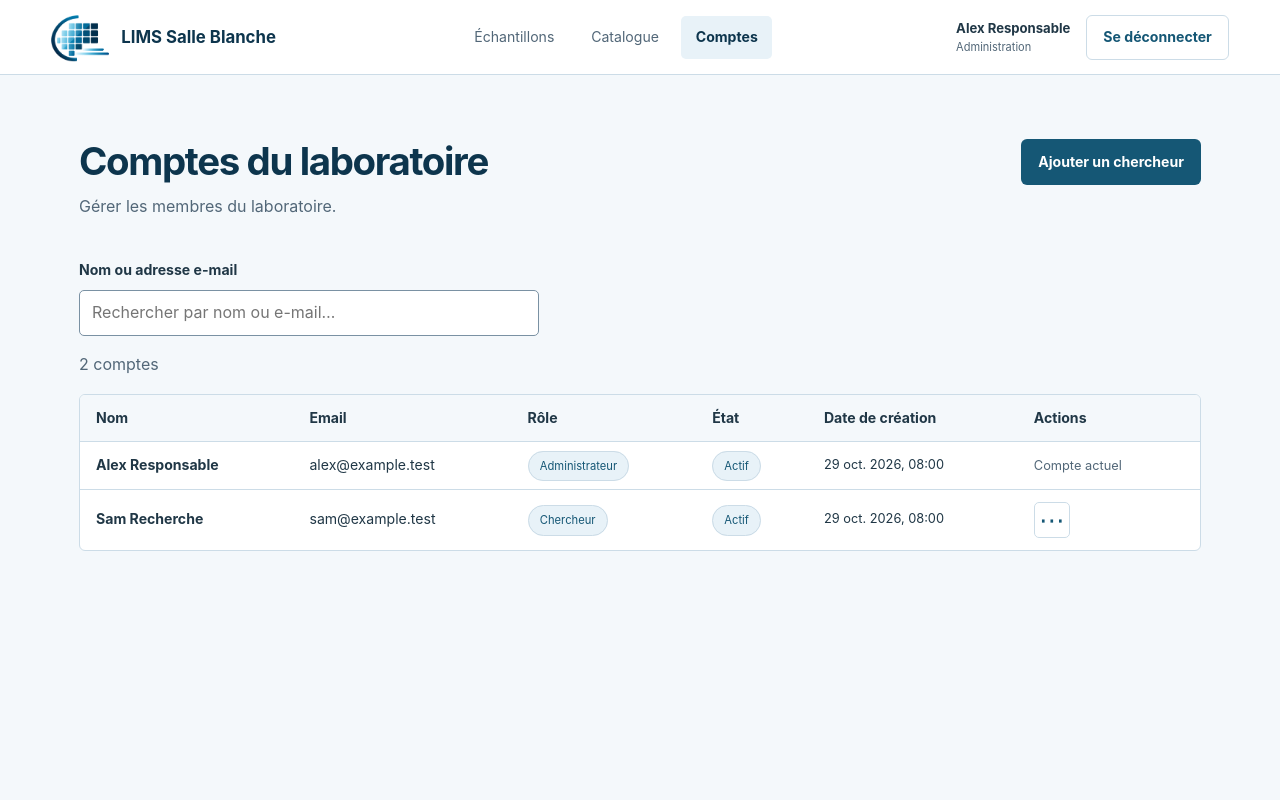
it: Administration des comptes › interdit l’auto-désactivation et confirme celle d’un autre compte, puis permet la réactivation
expect the text "Compte actuel" is shown: met, box [1034,458,1122,473]
Click the button "⋯" at (1052, 520), box [1034,502,1070,538]
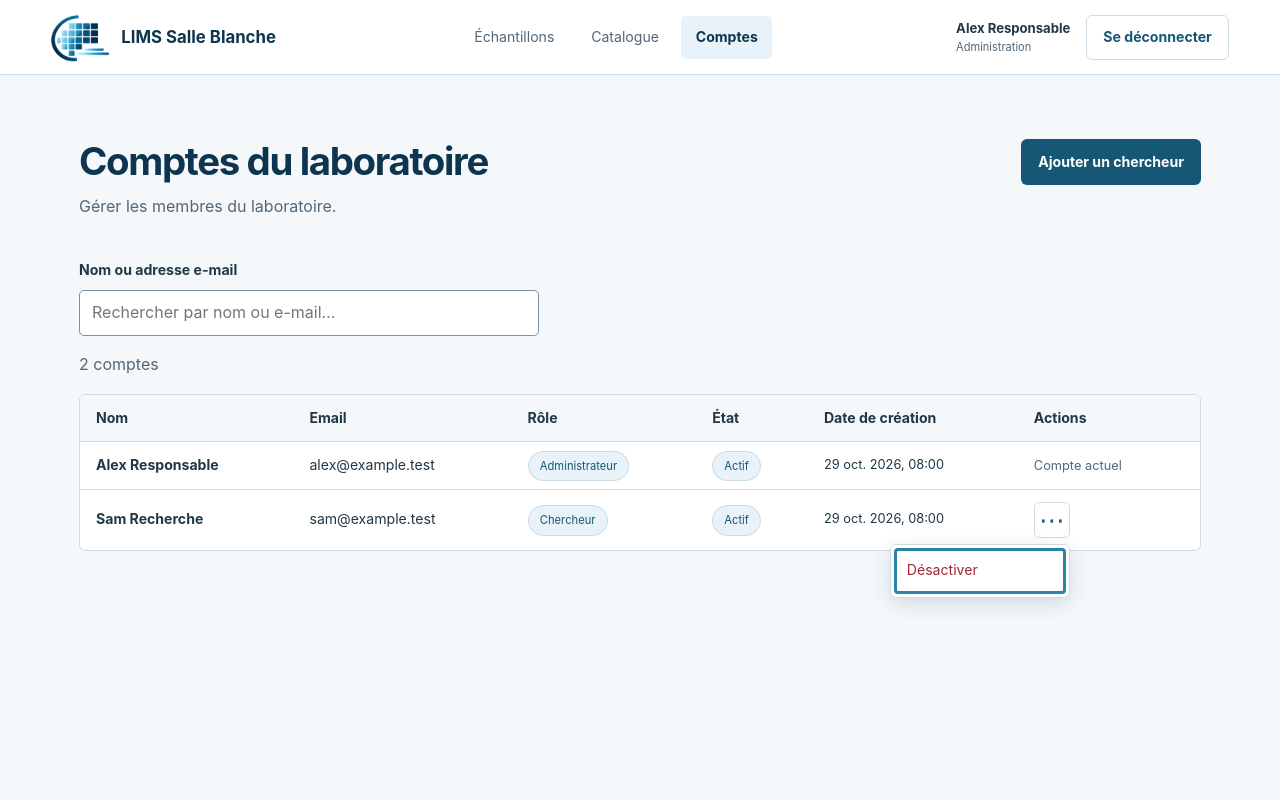
Click the menu item "Désactiver" at (980, 571), box [895,549,1065,593]
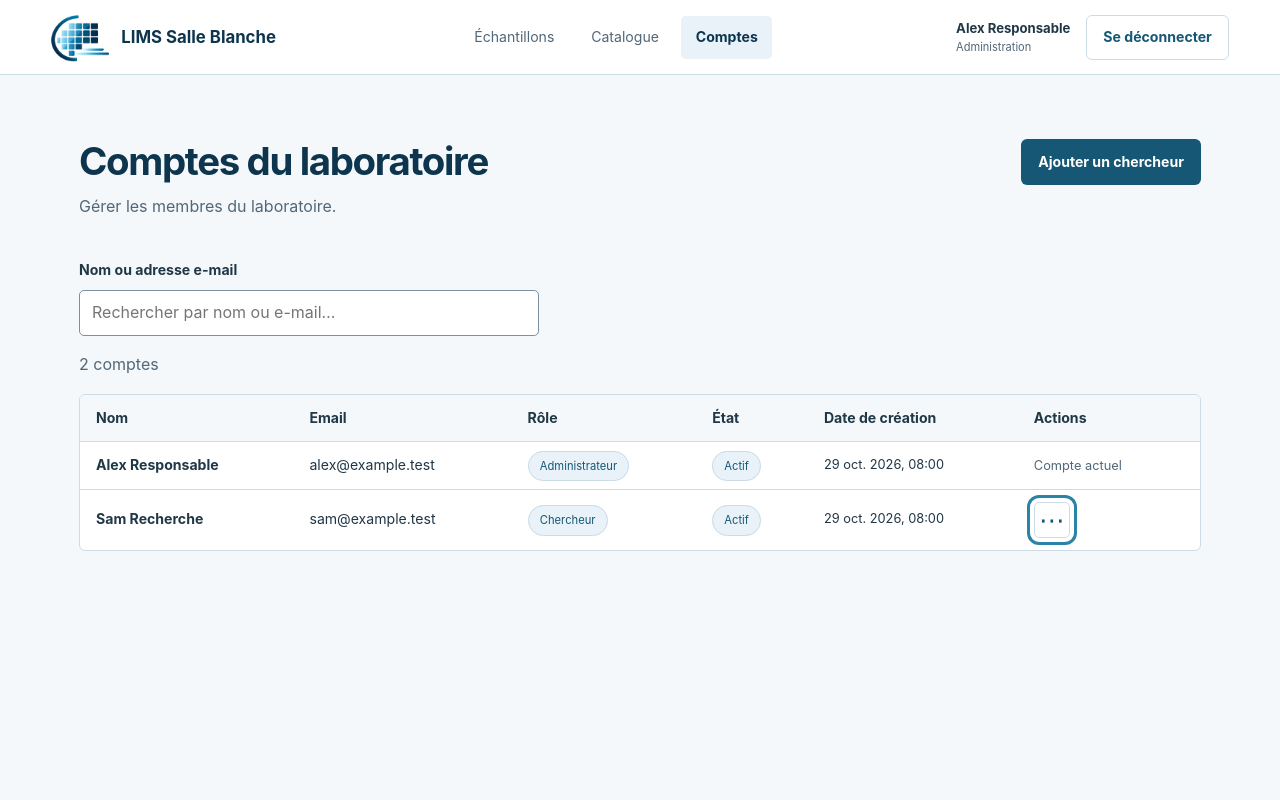
expect the menu is gone: met
Click the button "⋯" at (1052, 520), box [1034,502,1070,538]
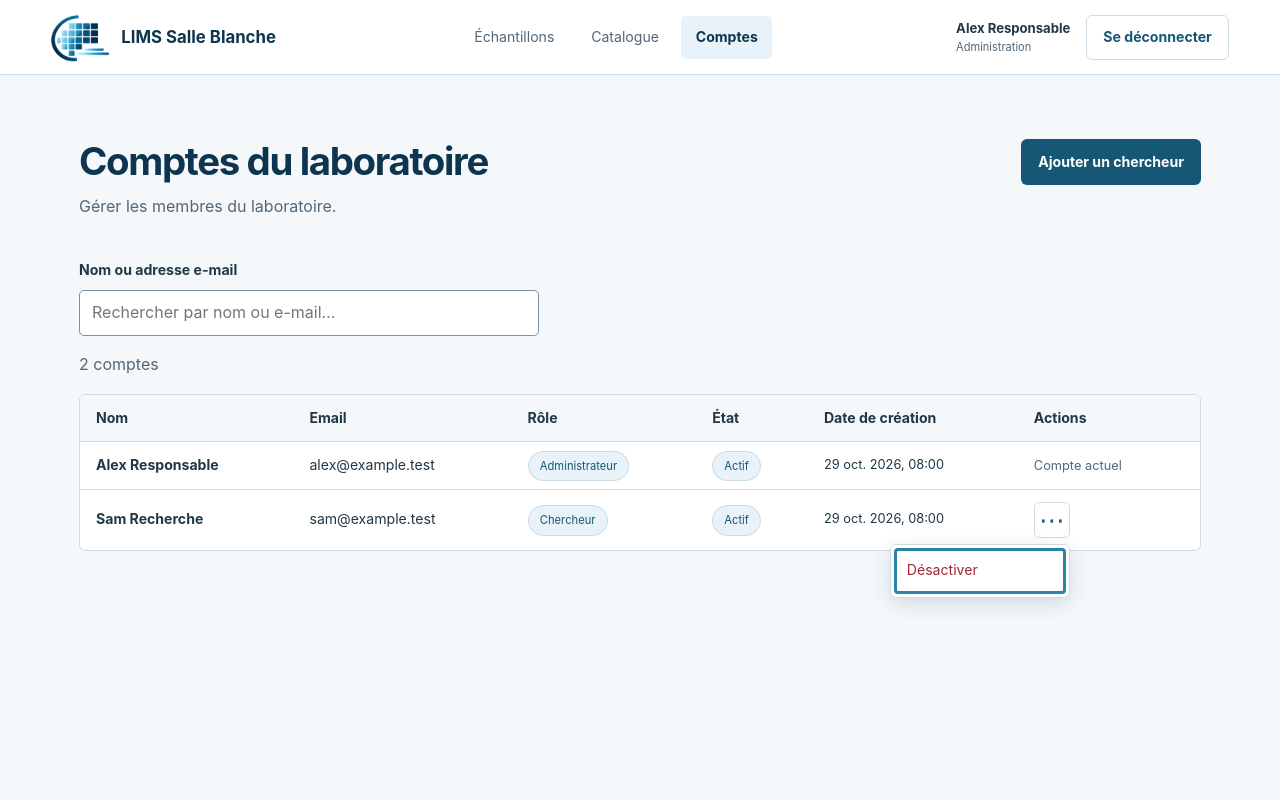
Click the menu item "Désactiver" at (980, 571), box [895,549,1065,593]
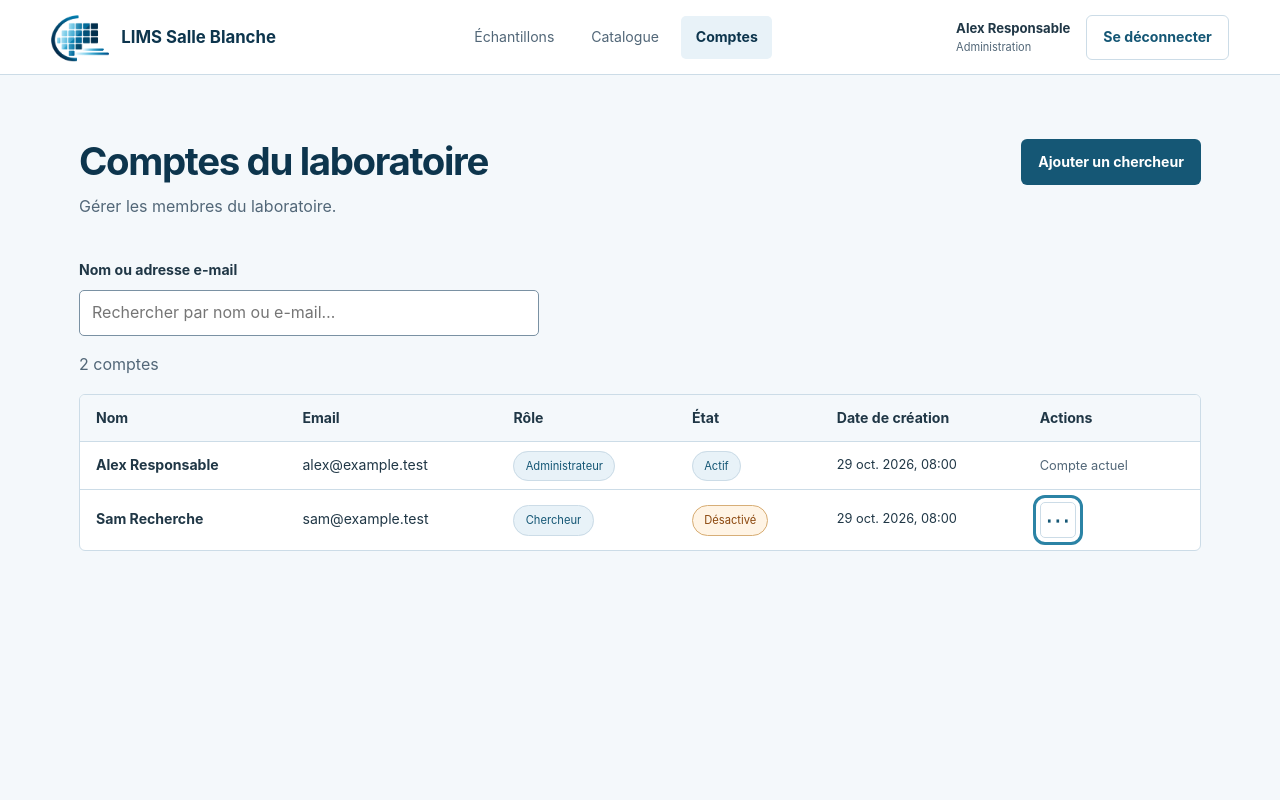
expect the text "Désactivé" is shown: met, box [692,505,768,536]
Click the button "⋯" at (1058, 520), box [1040,502,1076,538]
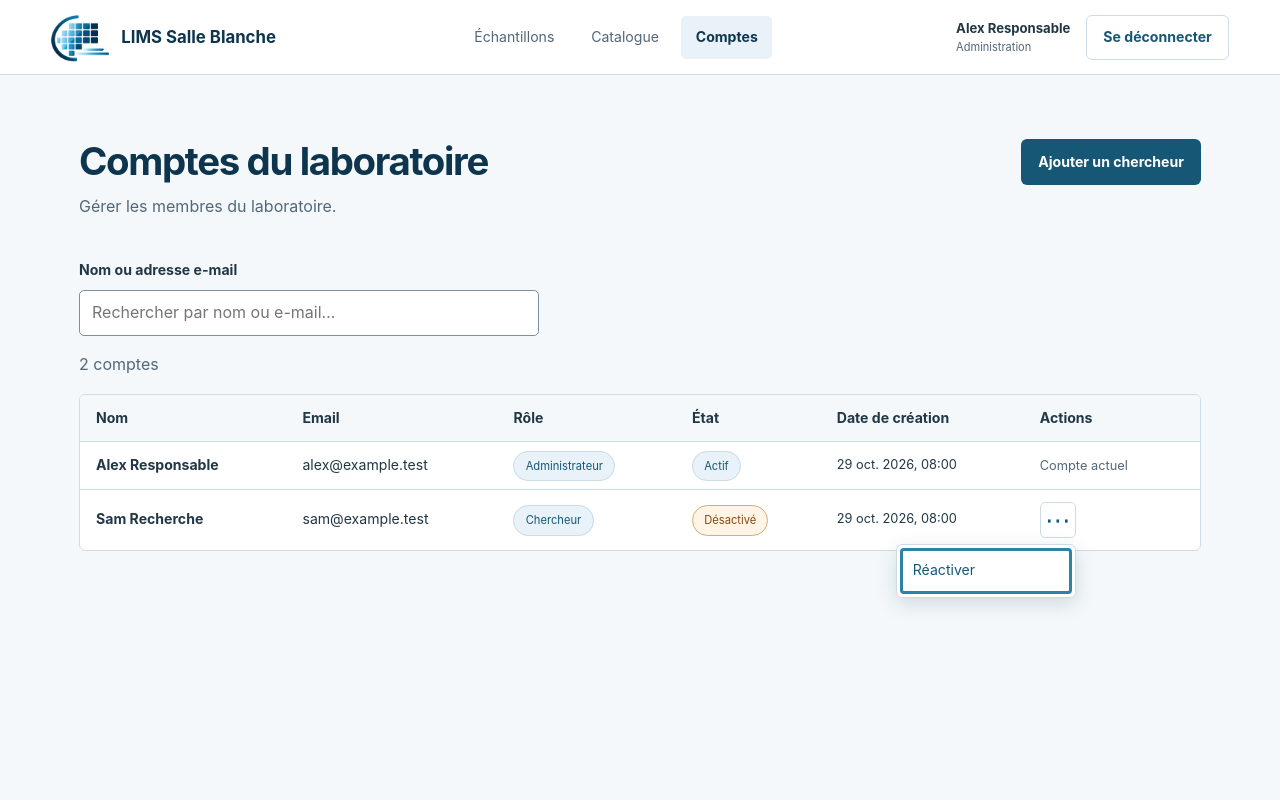
Click the menu item "Réactiver" at (986, 571), box [901,549,1071,593]
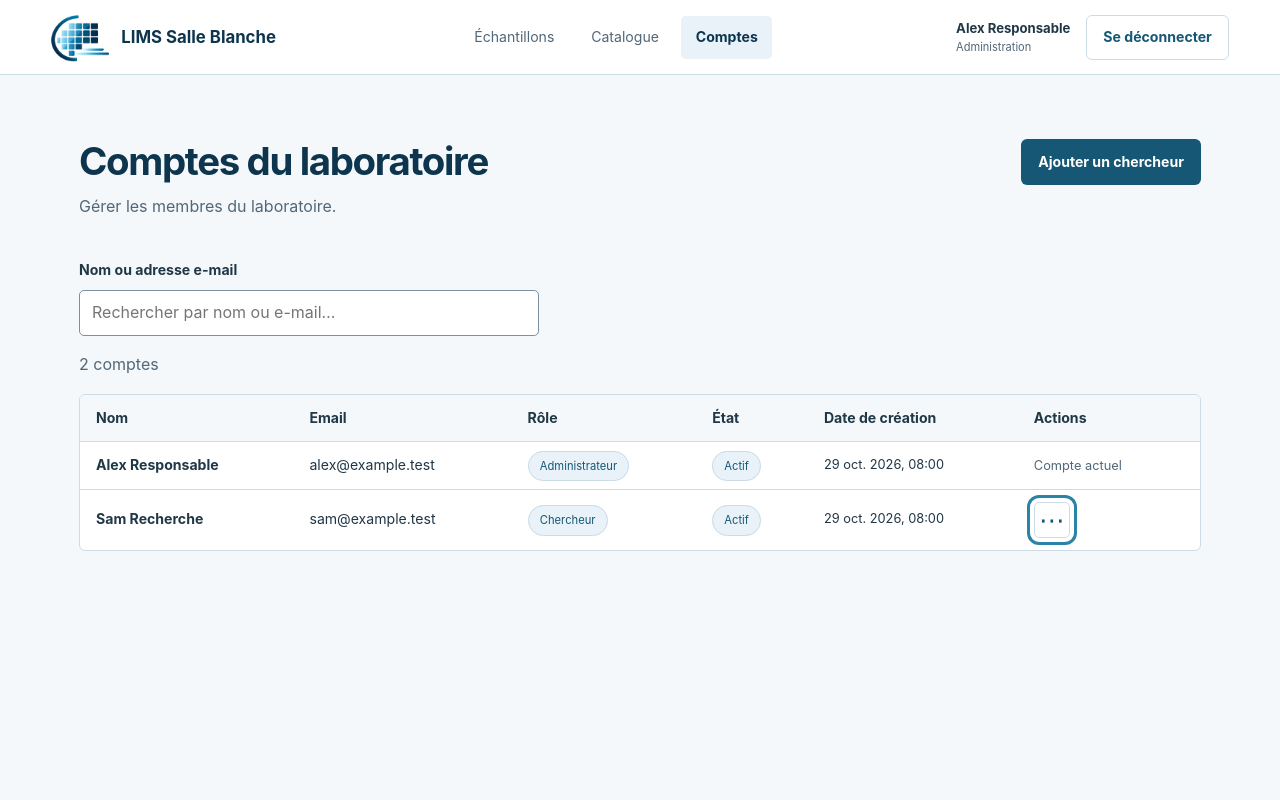
expect the text "Actif" in the row of "Sam Recherche" is shown: met, box [724,513,749,527]
